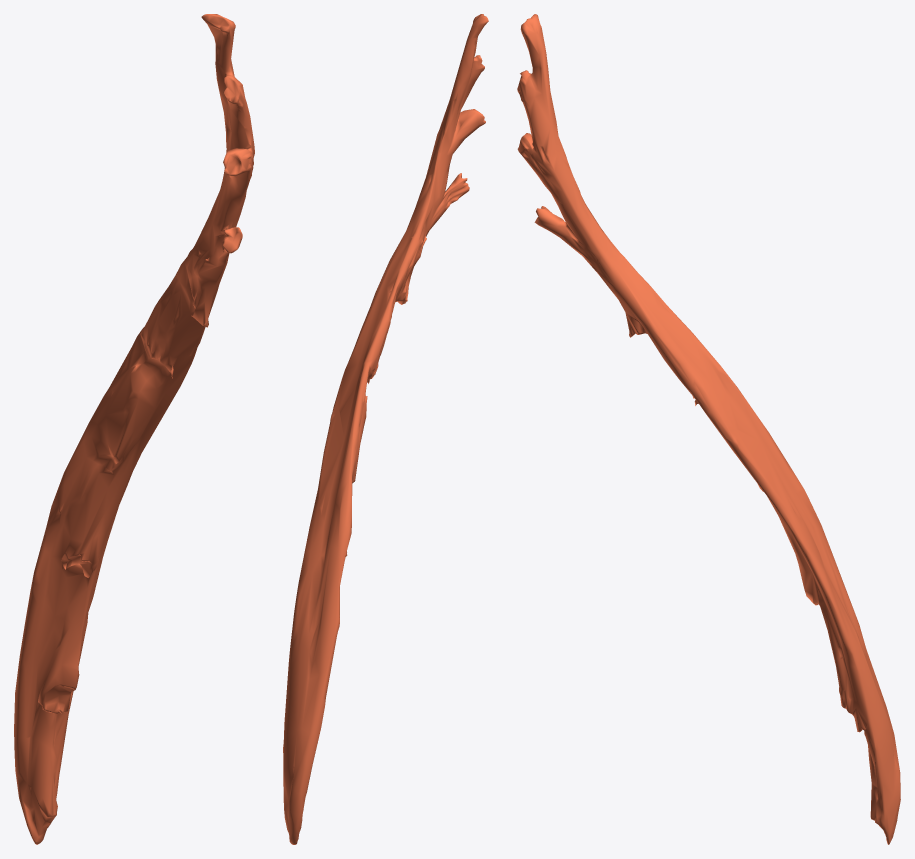
Rendered from Longissimus_colli_left.glb.
The picture shows the model from 3 angles, left to right: view 1: azimuth 30°, elevation 25°; view 2: azimuth 150°, elevation 25°; view 3: azimuth 270°, elevation 25°; orthographic projection. The views are drawn at different scales.
Parts seen in each view (by area): view 1: Longissimus_colli_muscle.l_Generated_Mesh_From_X3D.373; view 2: Longissimus_colli_muscle.l_Generated_Mesh_From_X3D.373; view 3: Longissimus_colli_muscle.l_Generated_Mesh_From_X3D.373.
Part boxes in pixels (x1,y1,x2,y2): Longissimus_colli_muscle.l_Generated_Mesh_From_X3D.373: [14, 14, 254, 844]; Longissimus_colli_muscle.l_Generated_Mesh_From_X3D.373: [283, 14, 488, 844]; Longissimus_colli_muscle.l_Generated_Mesh_From_X3D.373: [517, 14, 900, 844].
Bounding box in the file's own units: 0.0191 × 0.1895 × 0.0813.
